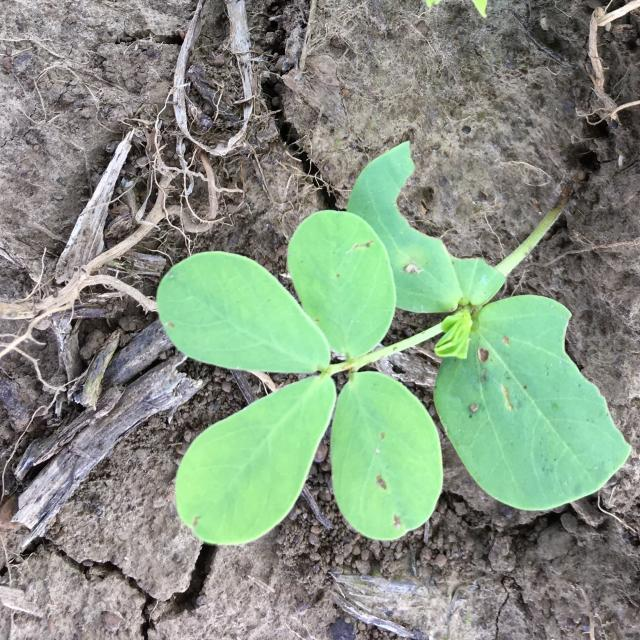Sicklepod: (157, 140, 632, 545)
